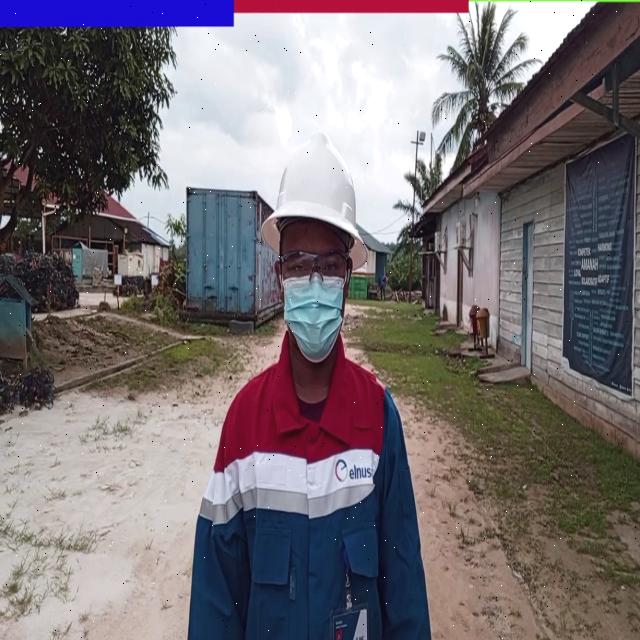Hardhat: (261, 132, 371, 274)
Mask: (282, 276, 349, 364)
Overall Suit: (187, 355, 432, 640)
